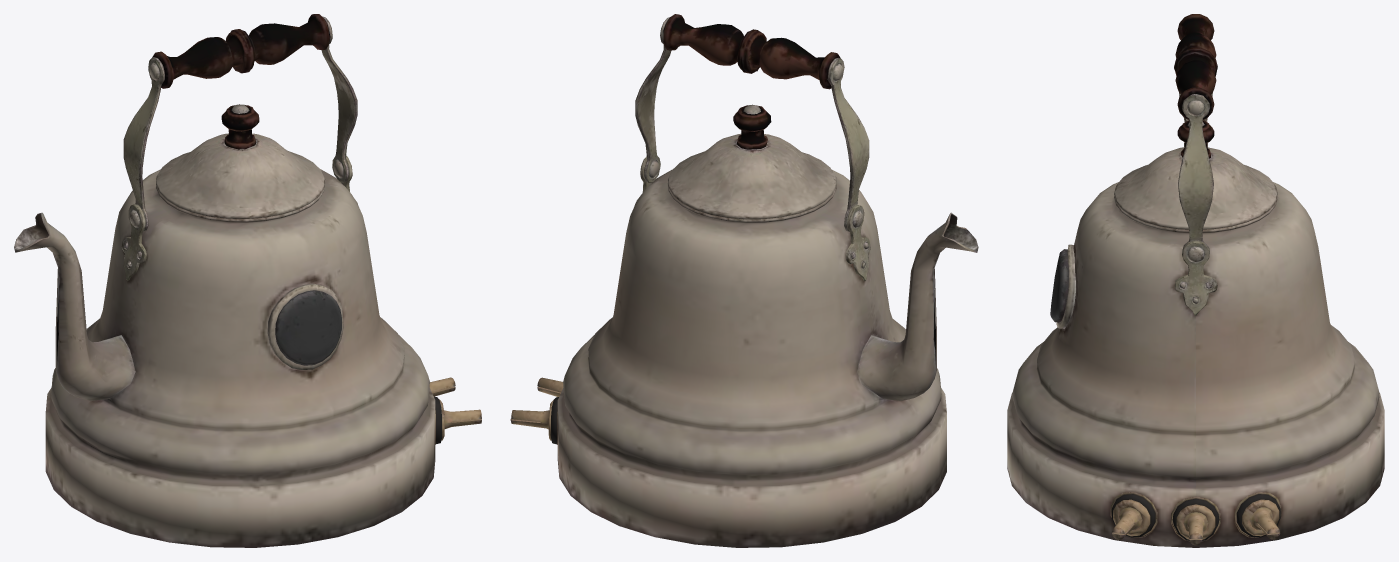
Rendered from vintage_electric_kettle.glb.
3 views of the same model, side by side, from view 1: azimuth 30°, elevation 25°; view 2: azimuth 150°, elevation 25°; view 3: azimuth 270°, elevation 25° (orthographic). The views are drawn at different scales.
Visible parts, largest first — view 1: vintage_electric_kettle; view 2: vintage_electric_kettle; view 3: vintage_electric_kettle.
Part boxes in pixels (left/top/right/bottom): vintage_electric_kettle: left=14, top=14, right=481, bottom=547; vintage_electric_kettle: left=510, top=14, right=978, bottom=547; vintage_electric_kettle: left=1007, top=14, right=1384, bottom=547.
Size of the model in its own units: 0.3209 by 0.3044 by 0.2478.
2 materials, 2 textured.
